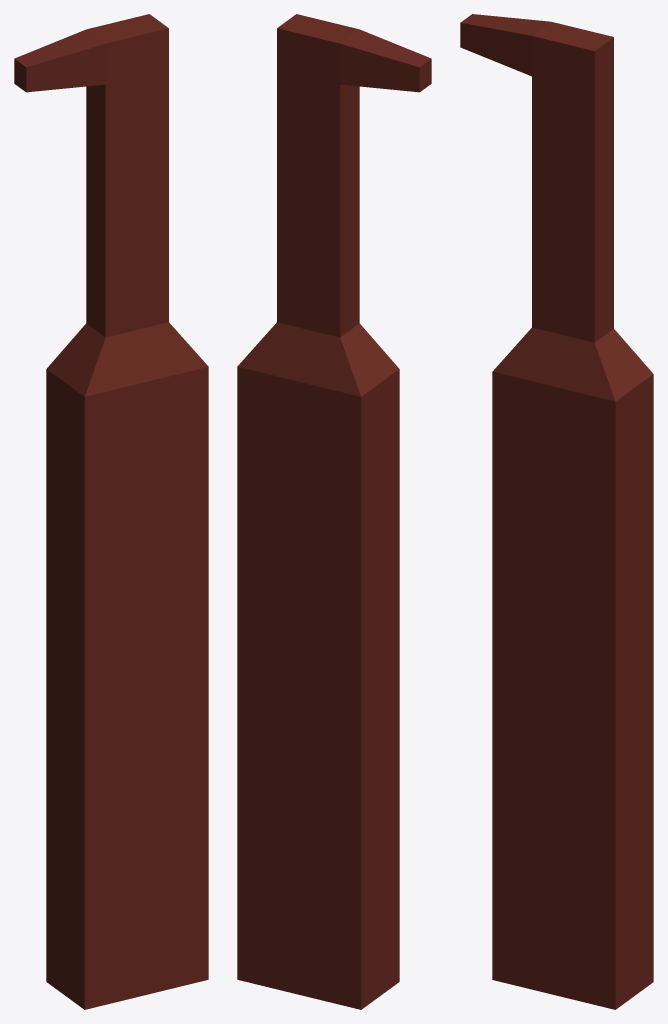
The model's file is lockpick.gltf.
3 renders of one model, left to right at view 1: azimuth 30°, elevation 25°; view 2: azimuth 150°, elevation 25°; view 3: azimuth 330°, elevation 25°, orthographic.
Parts seen in each view (by area): view 1: Cube; view 2: Cube; view 3: Cube.
Boxes of the visible parts, x1,y1,x2,y2 form: Cube: [14, 14, 208, 1009]; Cube: [237, 14, 431, 1009]; Cube: [460, 14, 653, 1009].
Bounding box in the file's own units: 0.2231 × 1.2 × 0.0873.
